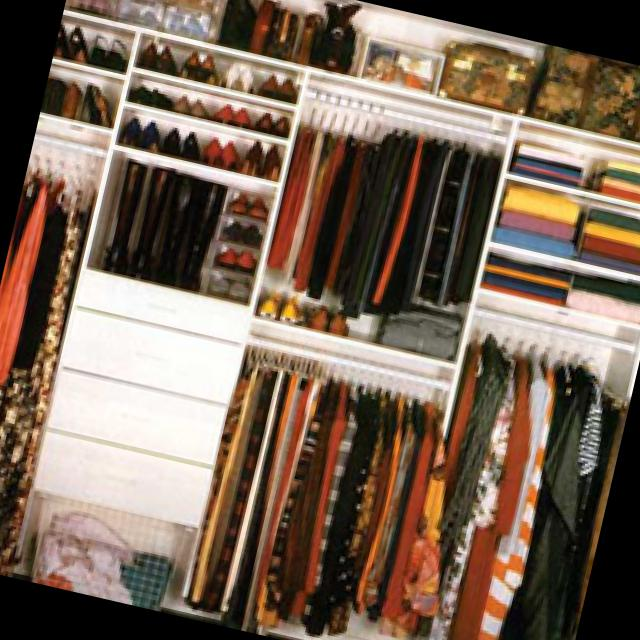basket crop: (36, 487, 198, 603)
boot: (182, 179, 231, 291), (157, 175, 202, 287), (107, 158, 151, 271), (131, 164, 175, 277)
box contants: (359, 34, 449, 93)
clothes hamper: (0, 169, 93, 565), (514, 136, 588, 185)
purse occluded: (442, 39, 540, 111)
shirts: (413, 338, 604, 640), (259, 380, 450, 637)
shoes occluded: (242, 137, 283, 179), (90, 33, 128, 73), (123, 112, 163, 148), (260, 290, 304, 322), (184, 48, 220, 81), (145, 40, 179, 72), (312, 304, 352, 331), (262, 71, 299, 100), (167, 125, 202, 155), (224, 219, 266, 243), (208, 137, 242, 166), (233, 190, 267, 218), (221, 246, 260, 270), (226, 60, 258, 88), (175, 94, 212, 114), (217, 103, 251, 124), (259, 111, 290, 133)
skirts: (339, 128, 505, 313)
sweaters: (498, 185, 582, 256), (484, 252, 573, 305), (581, 206, 640, 271), (570, 272, 640, 320)
trousers occluded: (187, 363, 332, 624), (272, 125, 382, 298)
